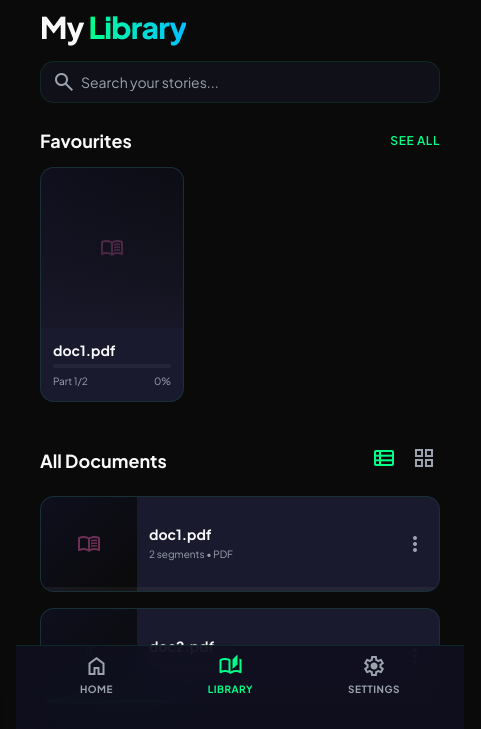
Test: Library Page › does not show favourites section when searching
The width and height of the screenshot is (481, 729).
Expected: the heading "Favourites" is shown, x1=40 y1=127 x2=132 y2=155
// Type into search bar
In the field with placeholder "Search your stories...": (240, 82) x1=40 y1=61 x2=440 y2=103, type "doc"
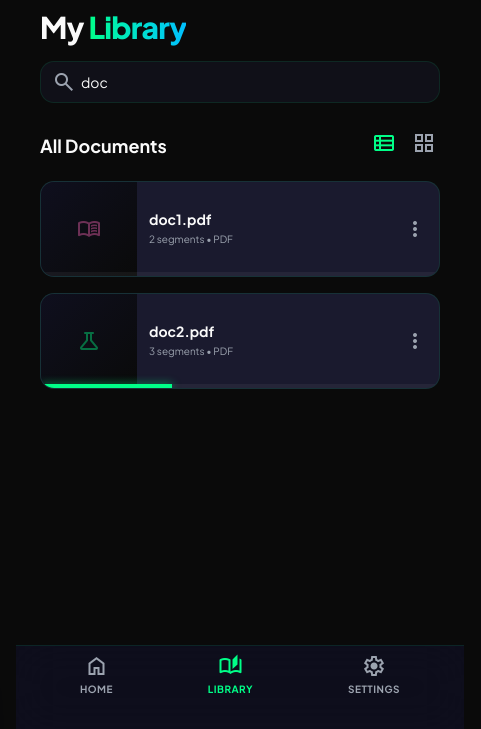
Result: the heading "Favourites" is gone
